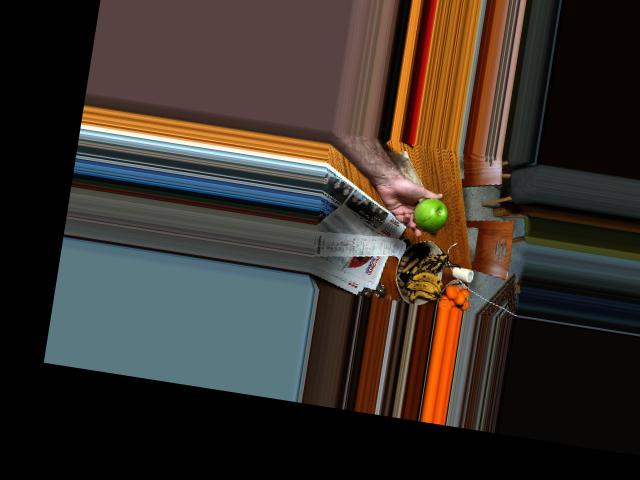apple: (406, 192, 454, 235)
